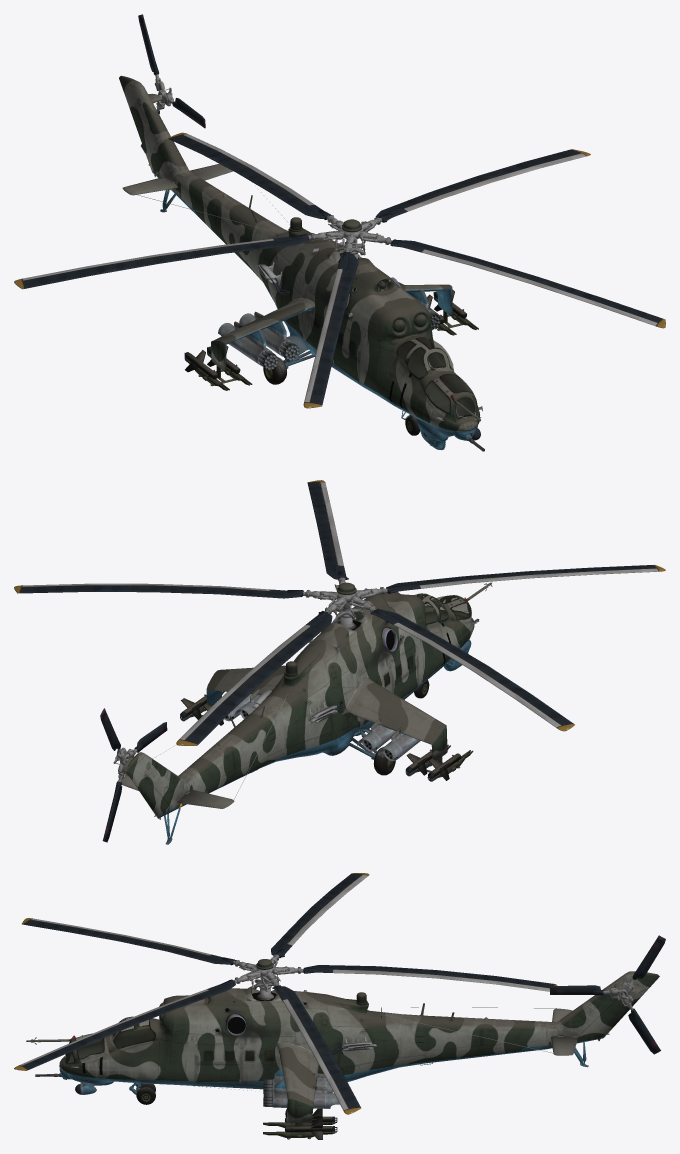
The model's file is heli_hind.glb.
3 renders of one model, top to bottom at view 1: azimuth 30°, elevation 25°; view 2: azimuth 150°, elevation 25°; view 3: azimuth 270°, elevation 25°, orthographic. The views are drawn at different scales.
Visible parts, largest first — view 1: hull, rotor, canopy_frame, glass, interior, tail; view 2: hull, rotor, tail, canopy_frame, glass; view 3: hull, rotor, tail, canopy_frame, glass, interior.
Boxes of the visible parts, x1,y1,x2,y2 form: hull: (119, 75, 482, 450); rotor: (14, 132, 665, 408); canopy_frame: (395, 334, 477, 421); glass: (398, 337, 476, 417); interior: (397, 337, 474, 417); tail: (138, 14, 205, 152); hull: (121, 582, 492, 844); rotor: (14, 480, 665, 745); tail: (100, 708, 167, 842); canopy_frame: (417, 593, 471, 626); glass: (415, 593, 471, 622); hull: (26, 971, 659, 1139); rotor: (14, 873, 557, 1114); tail: (549, 935, 665, 1054); canopy_frame: (65, 1016, 161, 1064); glass: (66, 1017, 154, 1062); interior: (66, 1028, 154, 1062).
Bounding box in the file's own units: 16.42 × 5.53 × 18.83.
Materials: 4 (3 with a texture image).
